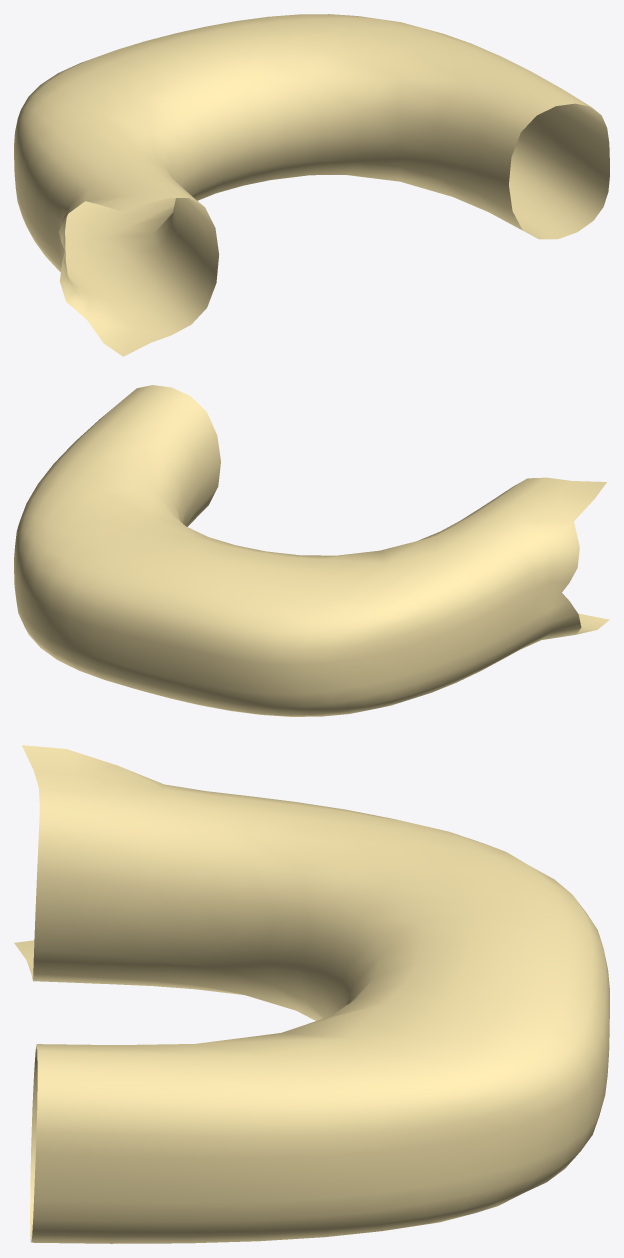
The model's file is Key 2.fbx.
3 renders of one model, top to bottom at view 1: azimuth 30°, elevation 25°; view 2: azimuth 150°, elevation 25°; view 3: azimuth 270°, elevation 25°, orthographic. The views are drawn at different scales.
Parts seen in each view (by area): view 1: Cylinder; view 2: Cylinder; view 3: Cylinder.
Boxes of the visible parts, x1,y1,x2,y2 form: Cylinder: (14, 14, 609, 356); Cylinder: (14, 385, 609, 716); Cylinder: (14, 745, 609, 1243).
Bounding box in the file's own units: 20.48 × 5.69 × 15.03.
